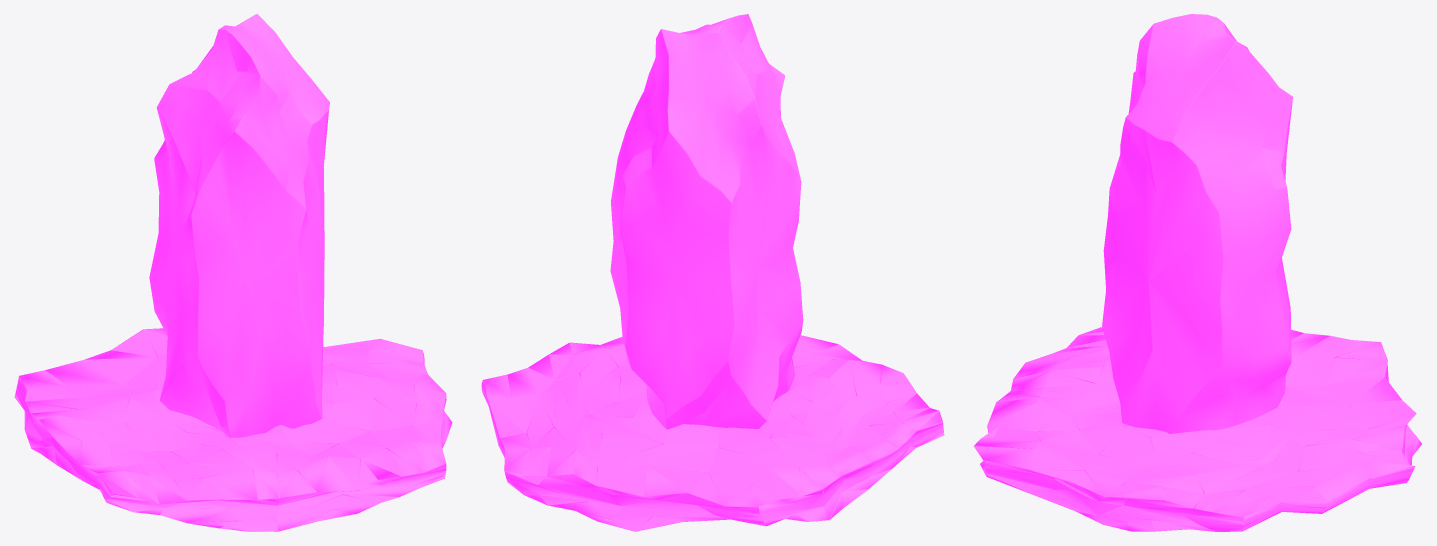
Rendered from Crystal.fbx.
3 views of the same model, side by side, from view 1: azimuth 30°, elevation 25°; view 2: azimuth 150°, elevation 25°; view 3: azimuth 270°, elevation 25° (orthographic). The views are drawn at different scales.
Visible parts, largest first — view 1: Cube, Cube.001; view 2: Cube, Cube.001; view 3: Cube, Cube.001.
Part boxes in pixels (left/top/right/bottom): Cube: left=149, top=14, right=329, bottom=437; Cube.001: left=14, top=328, right=452, bottom=531; Cube: left=610, top=14, right=803, bottom=429; Cube.001: left=481, top=335, right=944, bottom=531; Cube: left=1102, top=14, right=1292, bottom=433; Cube.001: left=973, top=327, right=1421, bottom=531.
Size of the model in its own units: 500 by 546 by 494.
